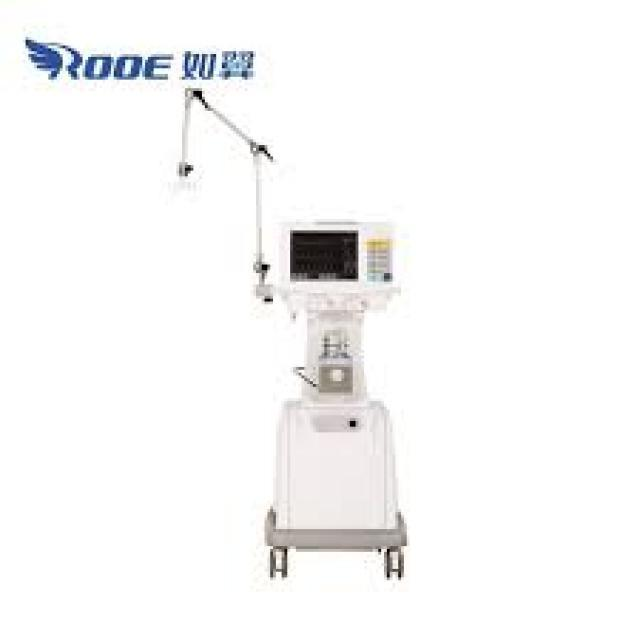ventilator: (170, 93, 467, 604)
